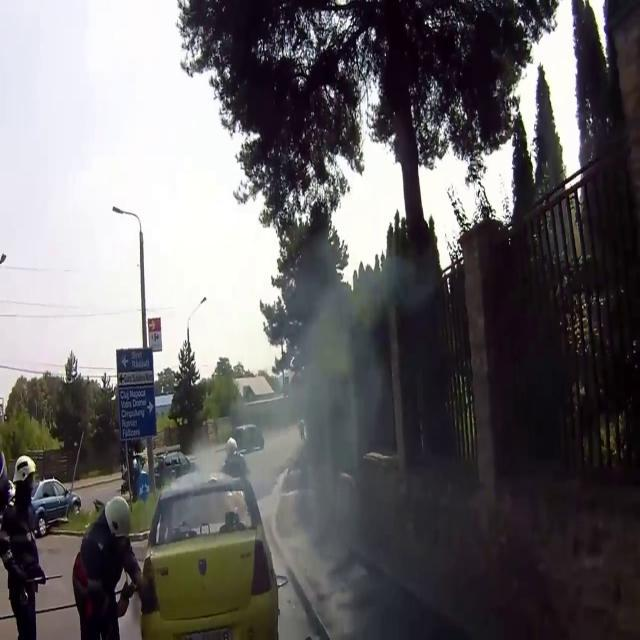Smoke: (218, 228, 469, 640)
